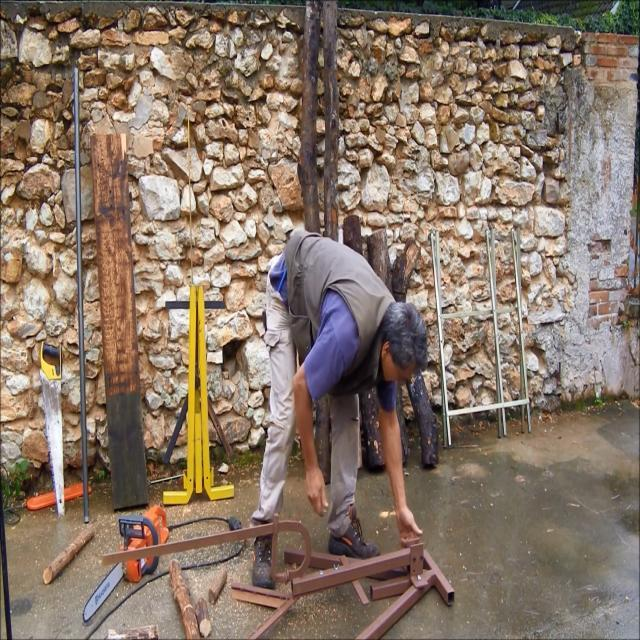Chainsaw: (70, 486, 187, 640)
